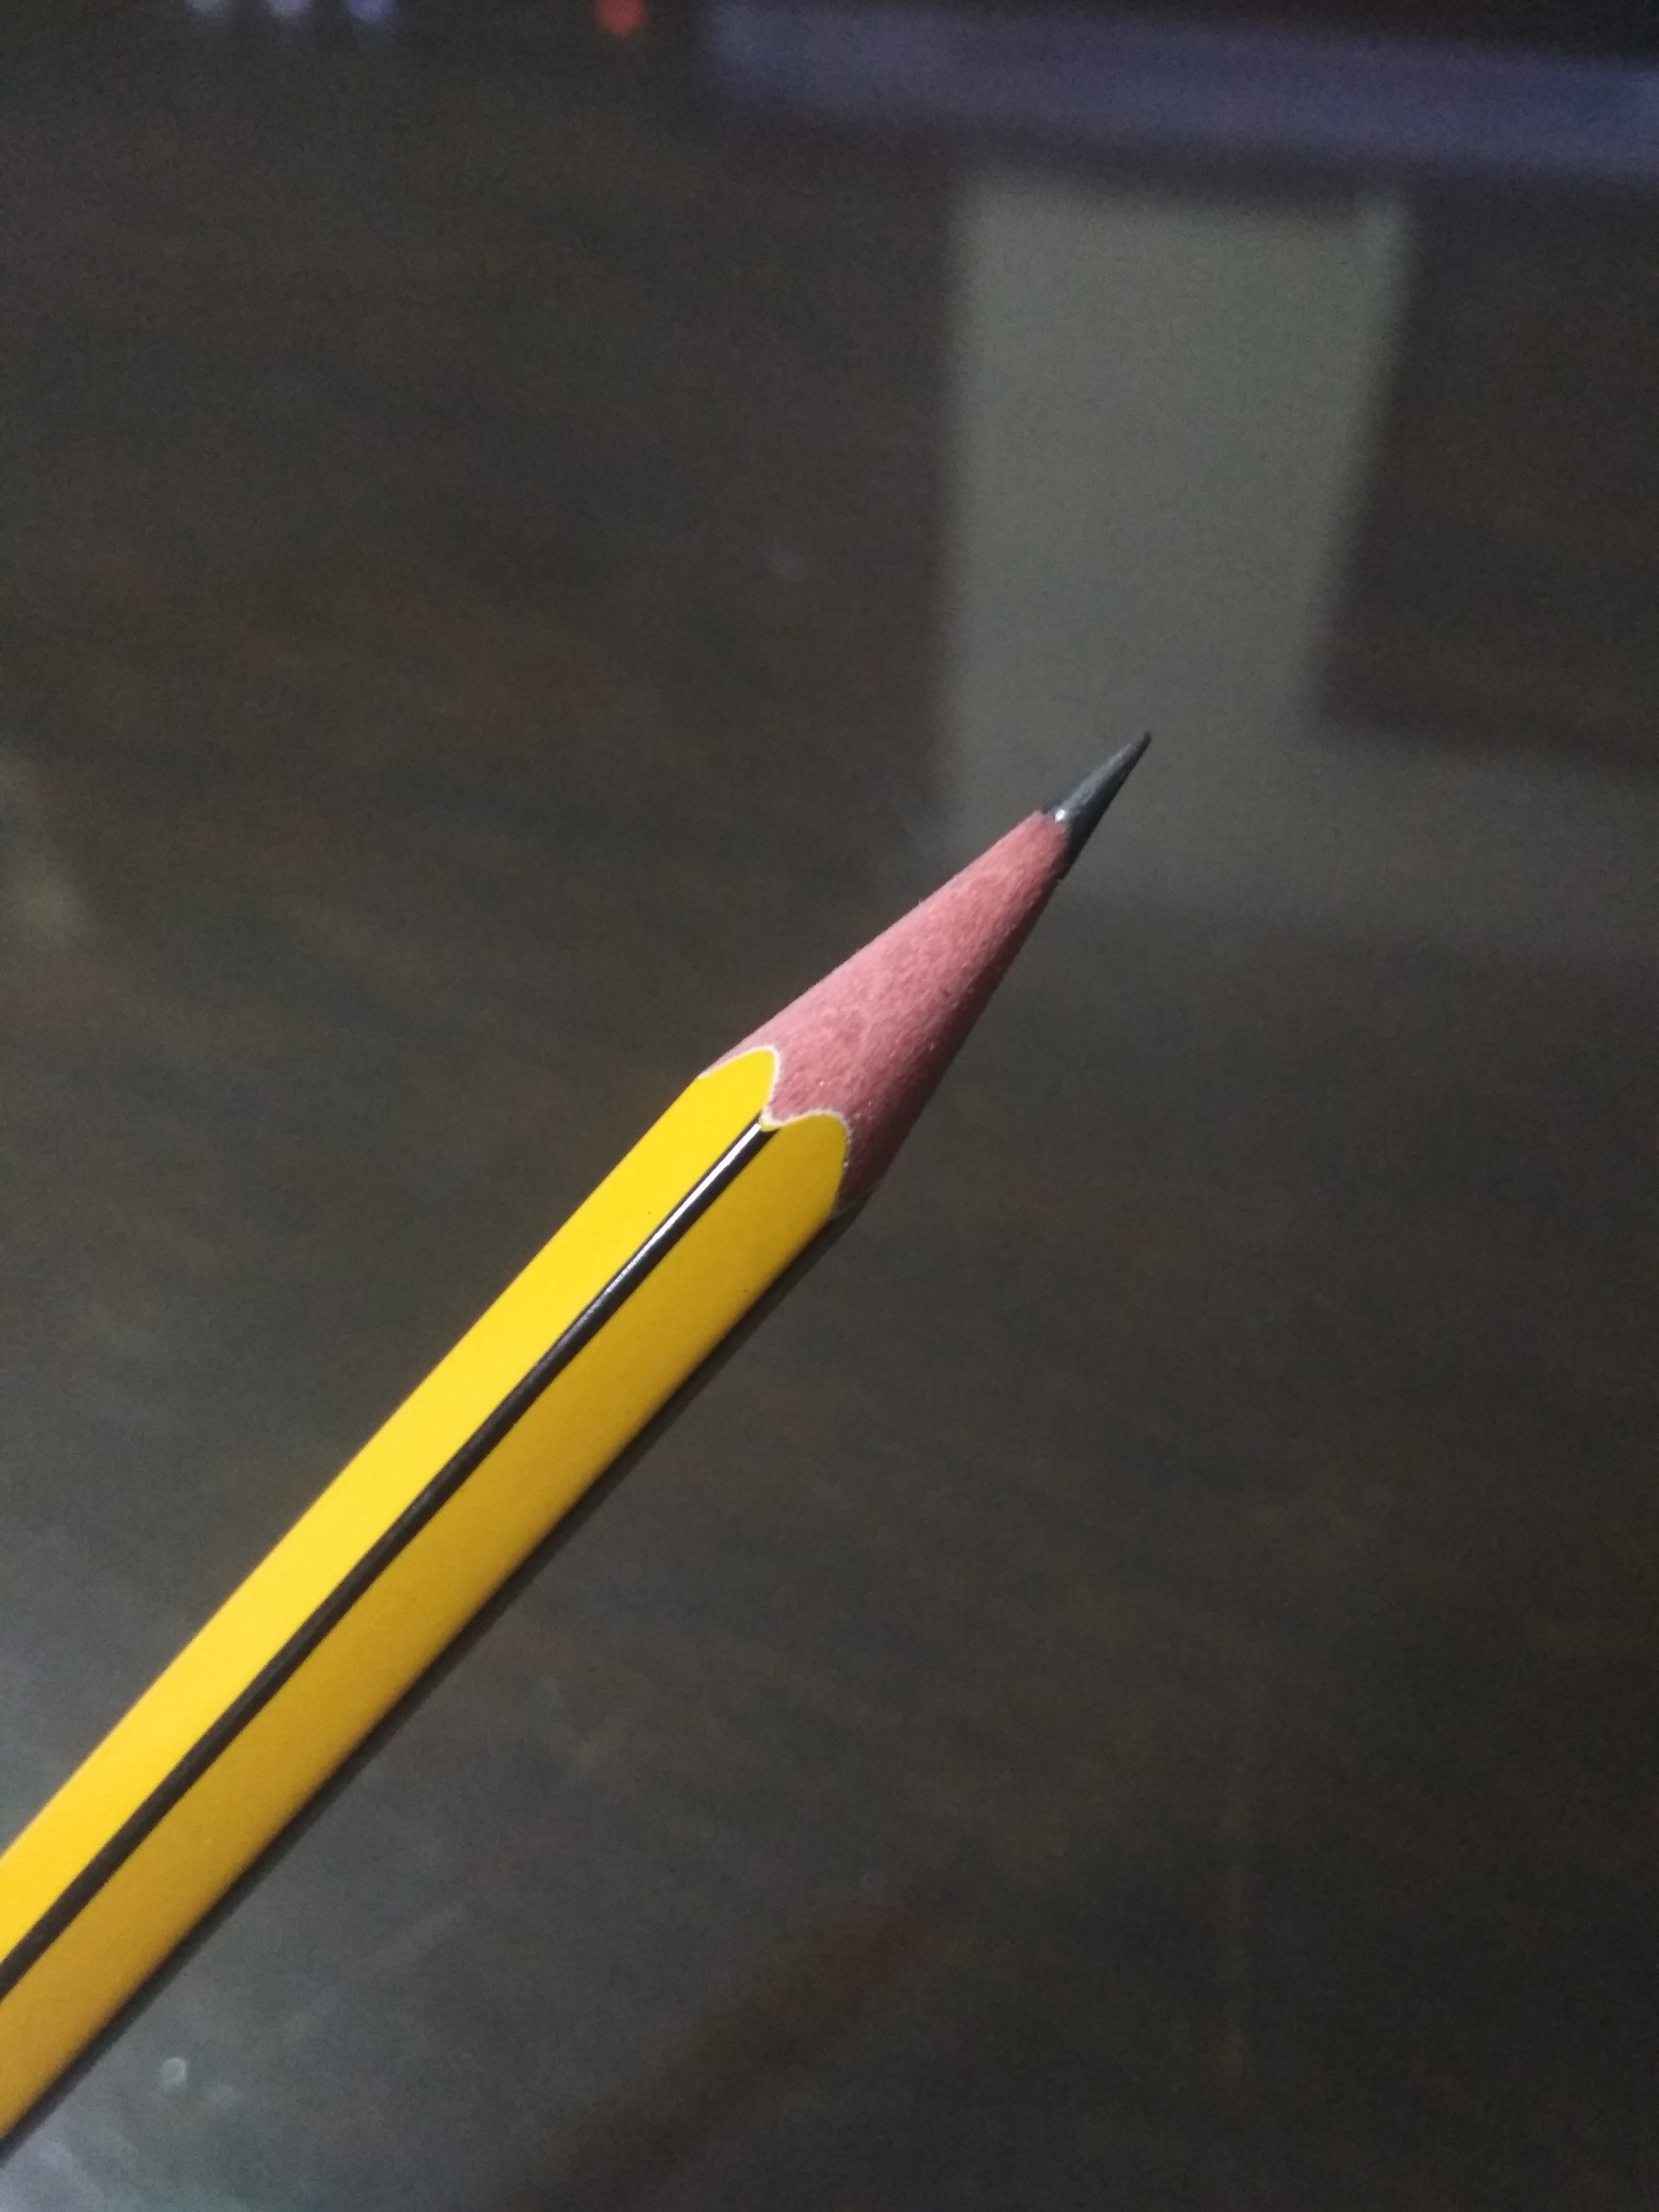pen_tip: (514, 691, 1340, 1268)
